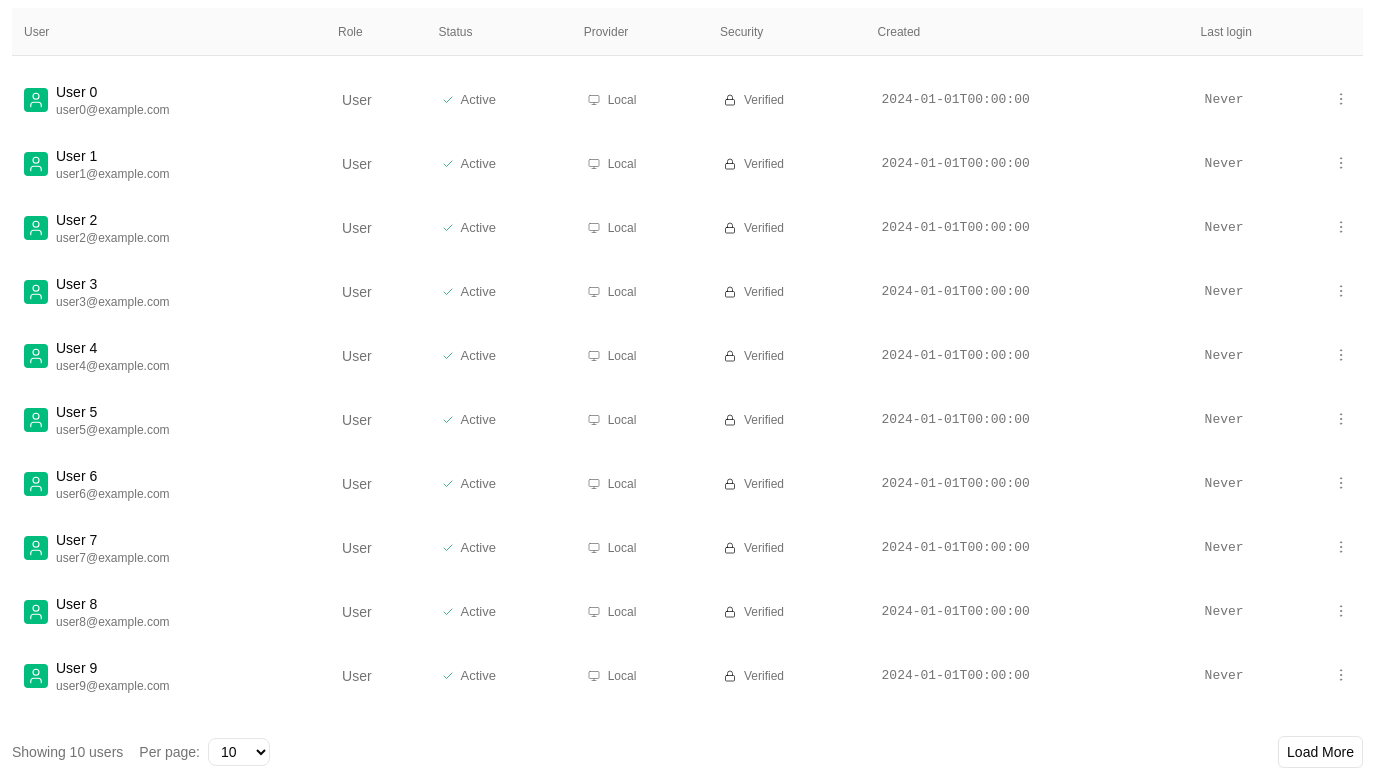
Test: Users › does not load more when load is already in progress
(page scrolled)
Check: the text "user0@example.com" is shown, box [56,102,170,118]
First click
Click the button with aria-label "load more users" at [1321, 752], box [1278,736,1363,767]
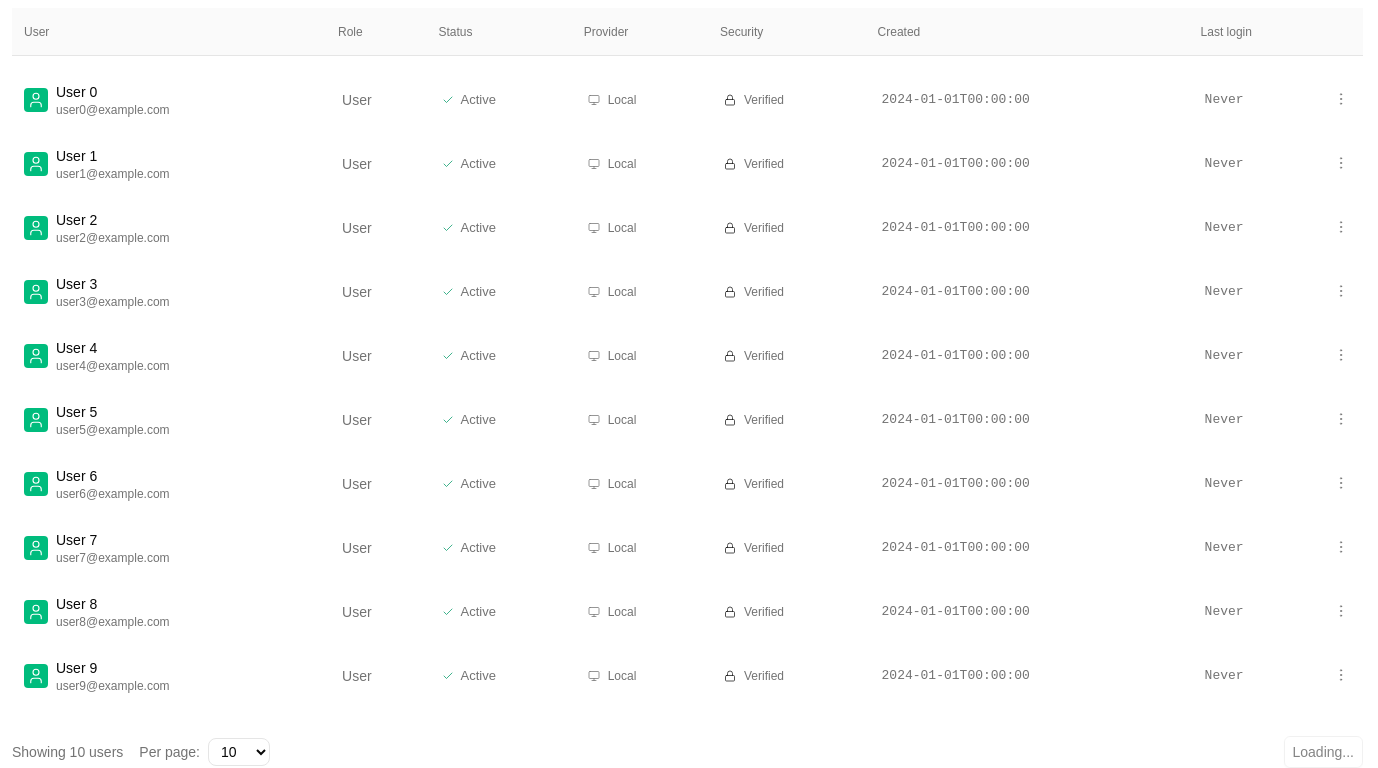
Second click (should be ignored because isLoadingMore is true)
Click the button with aria-label "load more users" at [1323, 752], box [1284,736,1363,767]
(page scrolled)
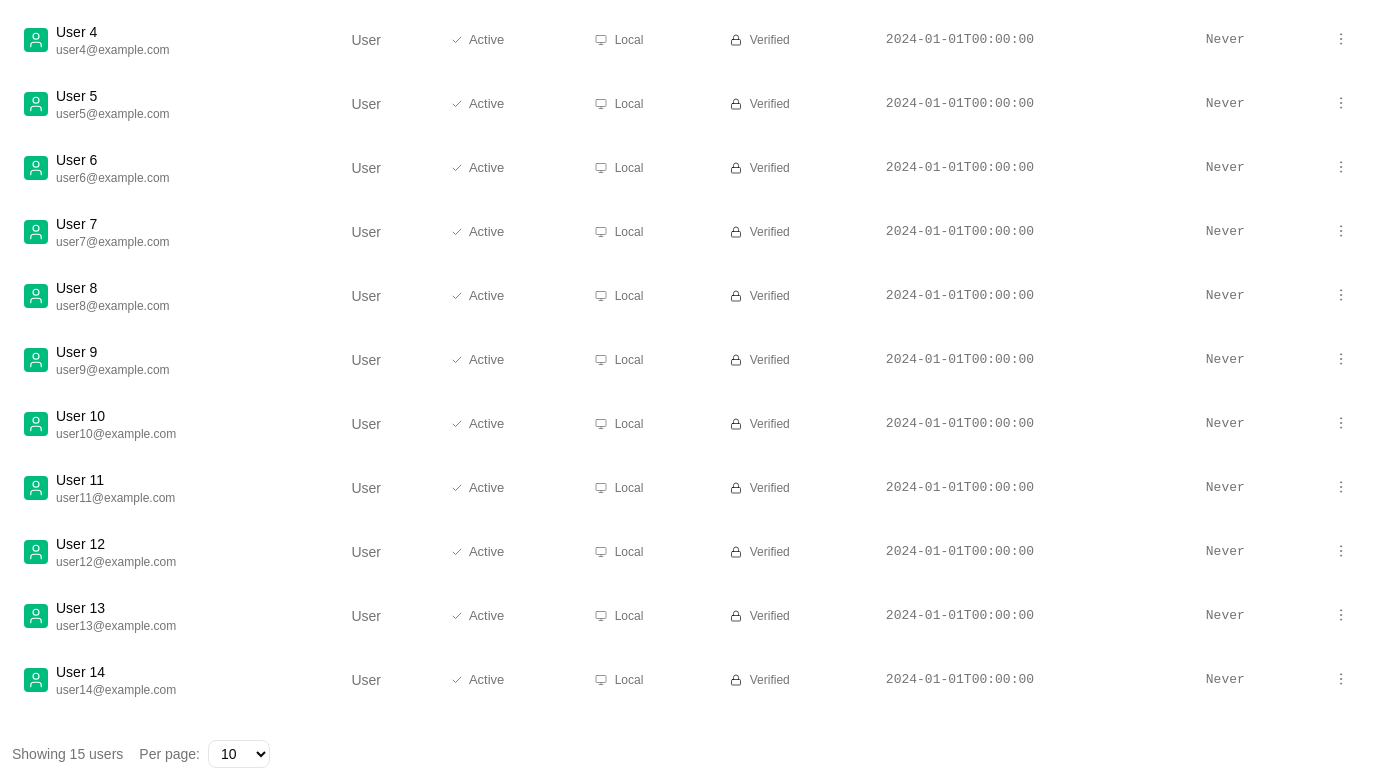
Check: the text "user14@example.com" is shown, box [56,682,176,698]
